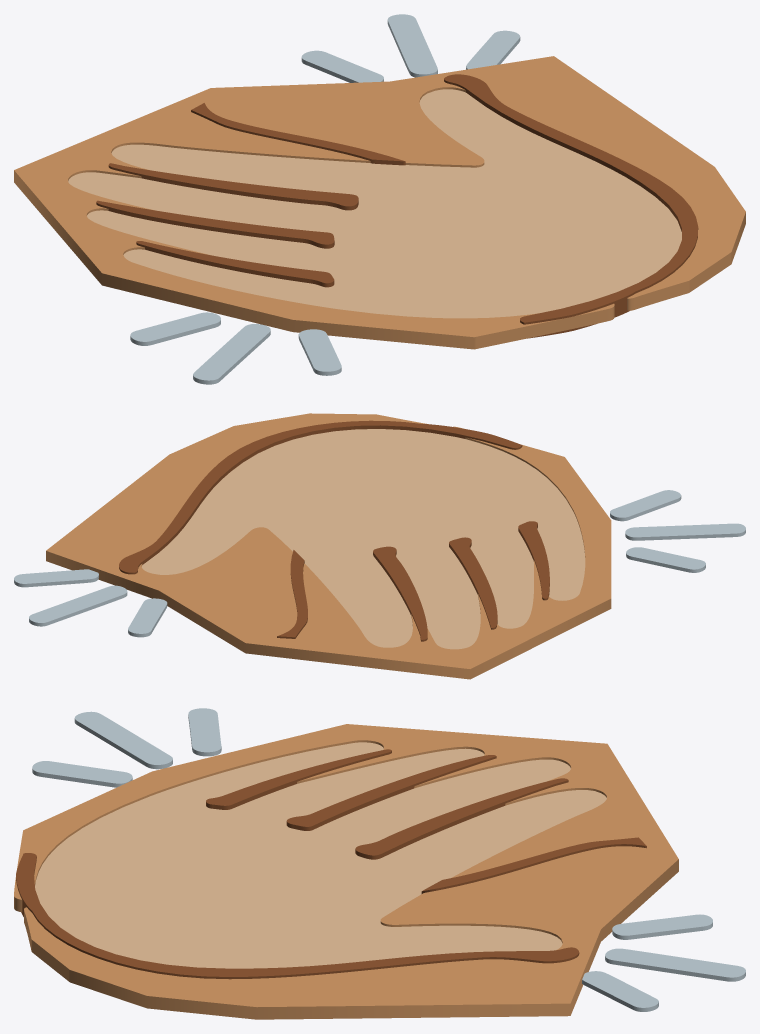
The model's file is emoji_u1f44f_1f3fc.glb.
The picture shows the model from 3 angles, top to bottom: view 1: azimuth 30°, elevation 25°; view 2: azimuth 150°, elevation 25°; view 3: azimuth 270°, elevation 25°; orthographic projection. The views are drawn at different scales.
Parts seen in each view (by area): view 1: emoji_u1f44f_1f3fc; view 2: emoji_u1f44f_1f3fc; view 3: emoji_u1f44f_1f3fc.
Boxes of the visible parts, left/top/right/bottom form: emoji_u1f44f_1f3fc: left=14, top=14, right=745, bottom=384; emoji_u1f44f_1f3fc: left=14, top=413, right=745, bottom=679; emoji_u1f44f_1f3fc: left=14, top=708, right=745, bottom=1019.
Size of the model in its own units: 0.0311 by 0.0008 by 0.0318.
